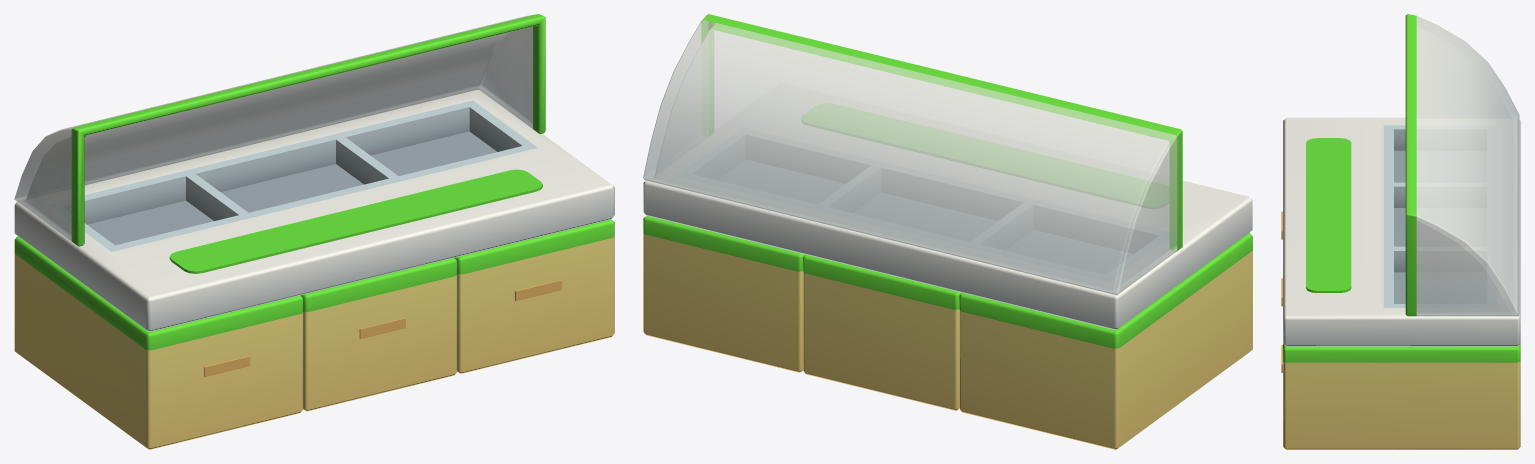
Rendered from Table_Package.fbx.
The picture shows the model from 3 angles, left to right: view 1: azimuth 30°, elevation 25°; view 2: azimuth 150°, elevation 25°; view 3: azimuth 270°, elevation 25°; orthographic projection. The views are drawn at different scales.
Parts seen in each view (by area): view 1: Table_Package; view 2: Table_Package; view 3: Table_Package.
Part boxes in pixels (box(x1,y1,x2,y2)): Table_Package: box(14, 14, 614, 449); Table_Package: box(643, 14, 1252, 449); Table_Package: box(1281, 14, 1520, 449).
Size of the model in its own units: 300 by 165 by 151.
